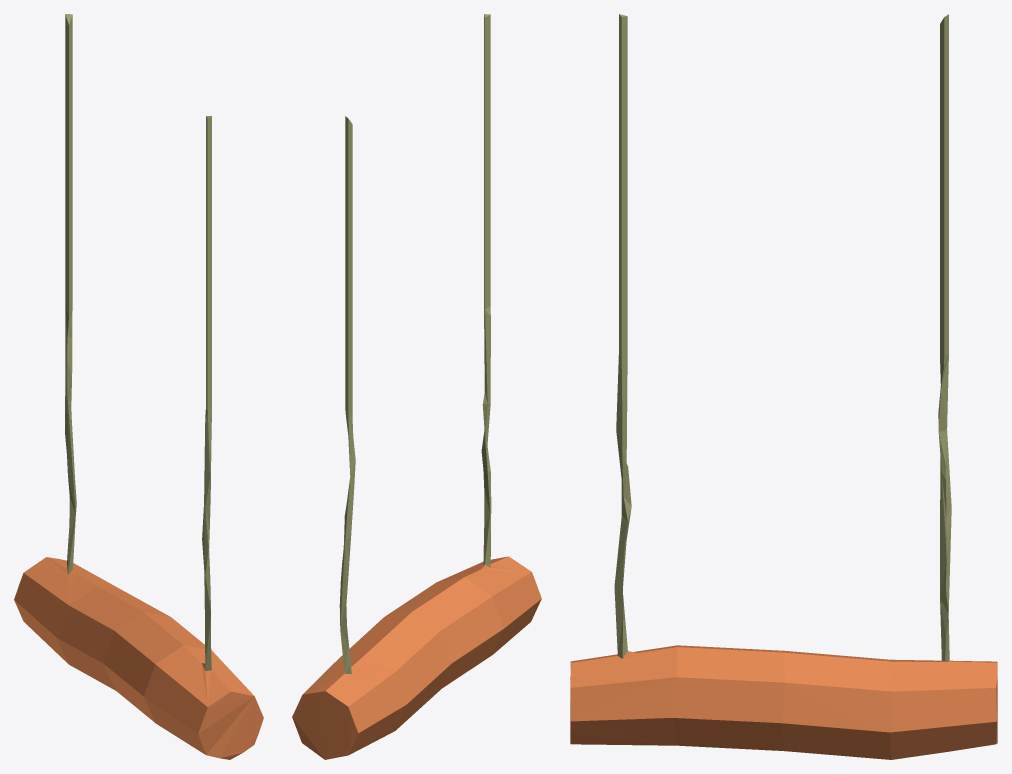
File: enviro woodlog.fbx
3 renders of one model, left to right at view 1: azimuth 30°, elevation 25°; view 2: azimuth 150°, elevation 25°; view 3: azimuth 270°, elevation 25°, orthographic. The views are drawn at different scales.
Parts seen in each view (by area): view 1: Cylinder.041; view 2: Cylinder.041; view 3: Cylinder.041.
Boxes of the visible parts, x1,y1,x2,y2 form: Cylinder.041: (14, 14, 263, 759); Cylinder.041: (292, 14, 541, 759); Cylinder.041: (570, 14, 997, 759).
Size of the model in its own units: 214 by 1529 by 800.
